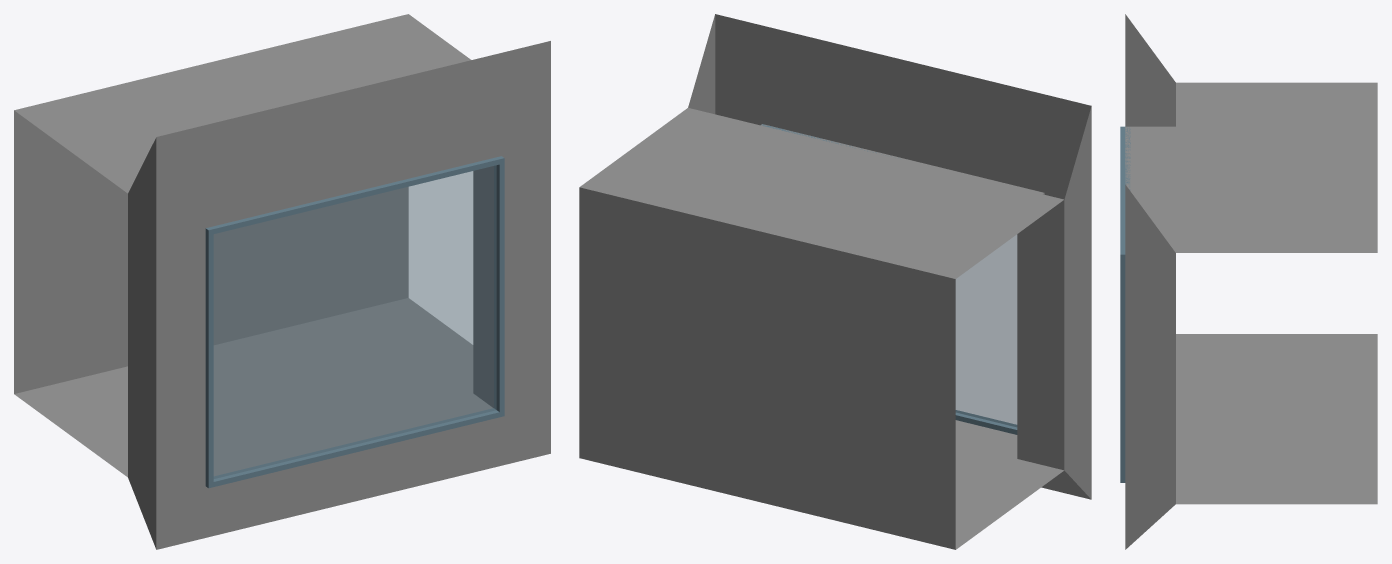
The model's file is officeBuilding01_windowMedium02.FBX.
3 views of the same model, side by side, from view 1: azimuth 30°, elevation 25°; view 2: azimuth 150°, elevation 25°; view 3: azimuth 270°, elevation 25° (orthographic). The views are drawn at different scales.
Visible parts, largest first — view 1: officeBuilding01_windowMedium02; view 2: officeBuilding01_windowMedium02; view 3: officeBuilding01_windowMedium02.
Boxes of the visible parts, <box> form: officeBuilding01_windowMedium02: <box>14,14,550,549</box>; officeBuilding01_windowMedium02: <box>579,14,1091,549</box>; officeBuilding01_windowMedium02: <box>1120,14,1377,549</box>.
Size of the model in its own units: 400 by 400 by 255.
